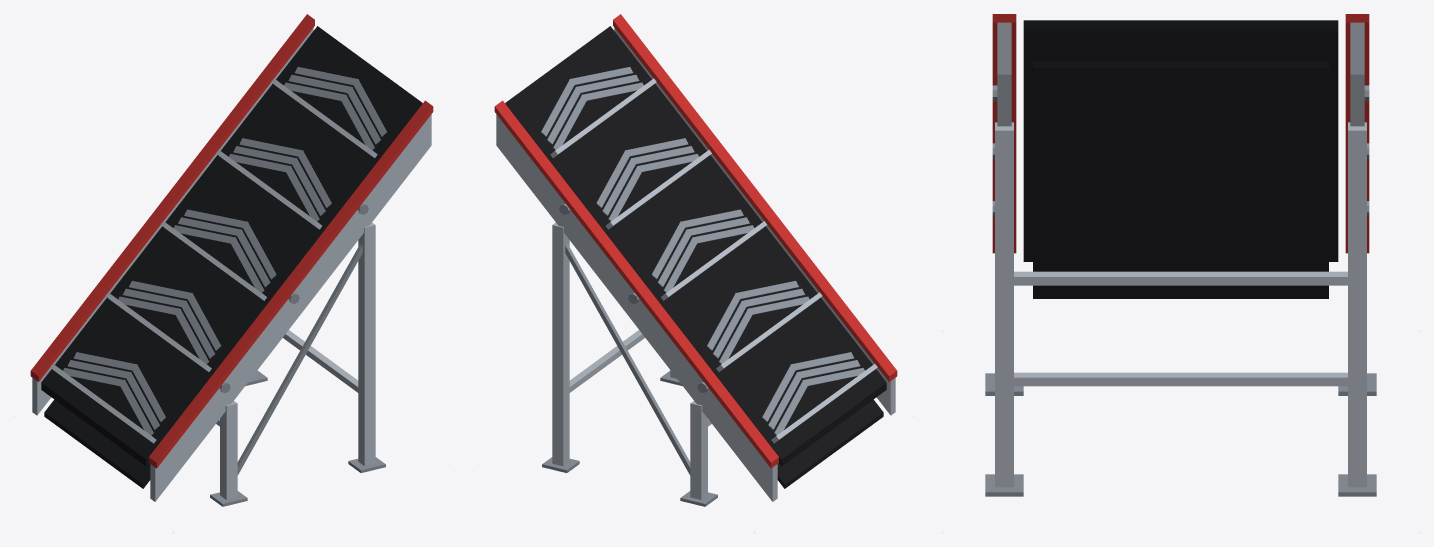
The model's file is convoyeur_rampe_t3.glb.
3 views of the same model, side by side, from view 1: azimuth 30°, elevation 25°; view 2: azimuth 150°, elevation 25°; view 3: azimuth 270°, elevation 25° (orthographic). The views are drawn at different scales.
Visible parts, largest first — view 1: bande_porteuse.024, bande_acier.042, longeron_-1.024, pieces_gris_clair.016, rive_-1.024, rive_1.024, bande_gris_clair.004, pieces_acier.048, bande_retour.024, longeron_1.024; view 2: bande_porteuse.024, bande_acier.042, longeron_1.024, pieces_gris_clair.016, rive_1.024, rive_-1.024, bande_gris_clair.004, pieces_acier.048, bande_retour.024, longeron_-1.024; view 3: bande_retour.024, pieces_gris_clair.016, bande_porteuse.024, pieces_acier.048, rive_1.024, rive_-1.024, longeron_1.024, longeron_-1.024.
Boxes of the visible parts, x1,y1,x2,y2 form: bande_porteuse.024: (41, 26, 422, 466); bande_acier.042: (63, 67, 386, 435); longeron_-1.024: (150, 114, 431, 501); pieces_gris_clair.016: (216, 222, 375, 499); rive_-1.024: (149, 100, 433, 468); rive_1.024: (30, 14, 314, 381); bande_gris_clair.004: (50, 78, 377, 443); pieces_acier.048: (210, 203, 385, 506); bande_retour.024: (44, 399, 150, 488); longeron_1.024: (32, 28, 313, 415); bande_porteuse.024: (505, 26, 886, 466); bande_acier.042: (541, 67, 864, 435); longeron_1.024: (496, 114, 777, 501); pieces_gris_clair.016: (552, 222, 711, 499); rive_1.024: (494, 100, 778, 468); rive_-1.024: (613, 14, 897, 381); bande_gris_clair.004: (550, 78, 877, 443); pieces_acier.048: (542, 203, 717, 506); bande_retour.024: (777, 399, 883, 488); longeron_-1.024: (614, 28, 895, 415); bande_retour.024: (1033, 61, 1328, 298); pieces_gris_clair.016: (995, 122, 1366, 487); bande_porteuse.024: (1023, 20, 1338, 261); pieces_acier.048: (985, 85, 1376, 496); rive_1.024: (1345, 14, 1369, 253); rive_-1.024: (992, 14, 1016, 253); longeron_1.024: (1350, 22, 1364, 126); longeron_-1.024: (997, 22, 1011, 126).
Bounding box in the file's own units: 1 × 1.2 × 1.
